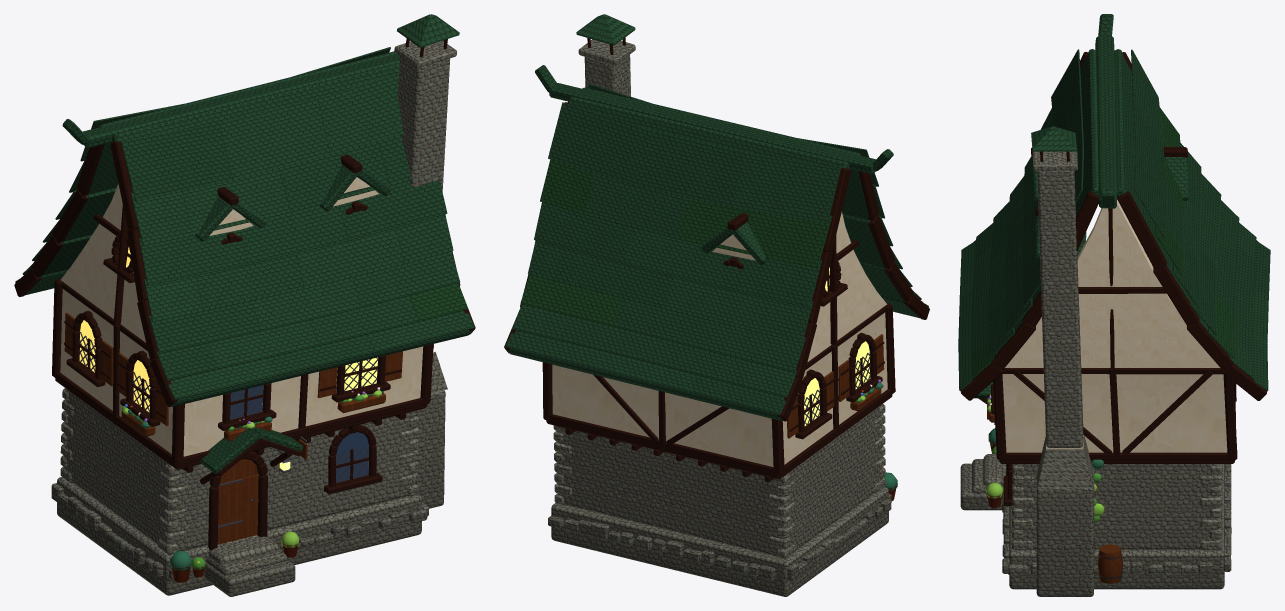
Rendered from azshara_house_1.gltf.
3 renders of one model, left to right at view 1: azimuth 30°, elevation 25°; view 2: azimuth 150°, elevation 25°; view 3: azimuth 270°, elevation 25°, orthographic. The views are drawn at different scales.
Parts seen in each view (by area): view 1: azshara_house_1_roof_LOD0, azshara_house_1_base_LOD0, azshara_house_1_trim_LOD0, azshara_house_1_wall_LOD0, azshara_house_1_door_LOD0, azshara_house_1_metal_LOD0, azshara_house_1_glass_LOD0, azshara_house_1_glow_FFB65A_LOD0, azshara_house_1_flora_LOD0; view 2: azshara_house_1_roof_LOD0, azshara_house_1_base_LOD0, azshara_house_1_trim_LOD0, azshara_house_1_wall_LOD0, azshara_house_1_door_LOD0, azshara_house_1_glow_FFB65A_LOD0; view 3: azshara_house_1_roof_LOD0, azshara_house_1_base_LOD0, azshara_house_1_wall_LOD0, azshara_house_1_trim_LOD0, azshara_house_1_door_LOD0, azshara_house_1_flora_LOD0.
Part boxes in pixels (x1=…): azshara_house_1_roof_LOD0: x1=15, y1=14, x2=474, y2=474; azshara_house_1_base_LOD0: x1=51, y1=40, x2=456, y2=596; azshara_house_1_trim_LOD0: x1=14, y1=38, x2=475, y2=550; azshara_house_1_wall_LOD0: x1=60, y1=177, x2=423, y2=456; azshara_house_1_door_LOD0: x1=64, y1=312, x2=402, y2=582; azshara_house_1_metal_LOD0: x1=79, y1=332, x2=378, y2=527; azshara_house_1_glass_LOD0: x1=230, y1=385, x2=368, y2=482; azshara_house_1_glow_FFB65A_LOD0: x1=79, y1=247, x2=377, y2=411; azshara_house_1_flora_LOD0: x1=122, y1=387, x2=383, y2=570; azshara_house_1_roof_LOD0: x1=505, y1=14, x2=928, y2=421; azshara_house_1_base_LOD0: x1=548, y1=39, x2=891, y2=596; azshara_house_1_trim_LOD0: x1=504, y1=37, x2=929, y2=482; azshara_house_1_wall_LOD0: x1=552, y1=211, x2=887, y2=466; azshara_house_1_door_LOD0: x1=787, y1=334, x2=896, y2=500; azshara_house_1_glow_FFB65A_LOD0: x1=804, y1=267, x2=870, y2=425; azshara_house_1_roof_LOD0: x1=958, y1=14, x2=1270, y2=398; azshara_house_1_base_LOD0: x1=960, y1=150, x2=1231, y2=596; azshara_house_1_wall_LOD0: x1=1002, y1=199, x2=1227, y2=452; azshara_house_1_trim_LOD0: x1=960, y1=52, x2=1266, y2=505; azshara_house_1_door_LOD0: x1=986, y1=395, x2=1122, y2=583; azshara_house_1_flora_LOD0: x1=986, y1=392, x2=1104, y2=522.
Size of what is drawn, in the model's own units: 12.07 by 15 by 8.87.
Materials: 10 (5 with a texture image).
